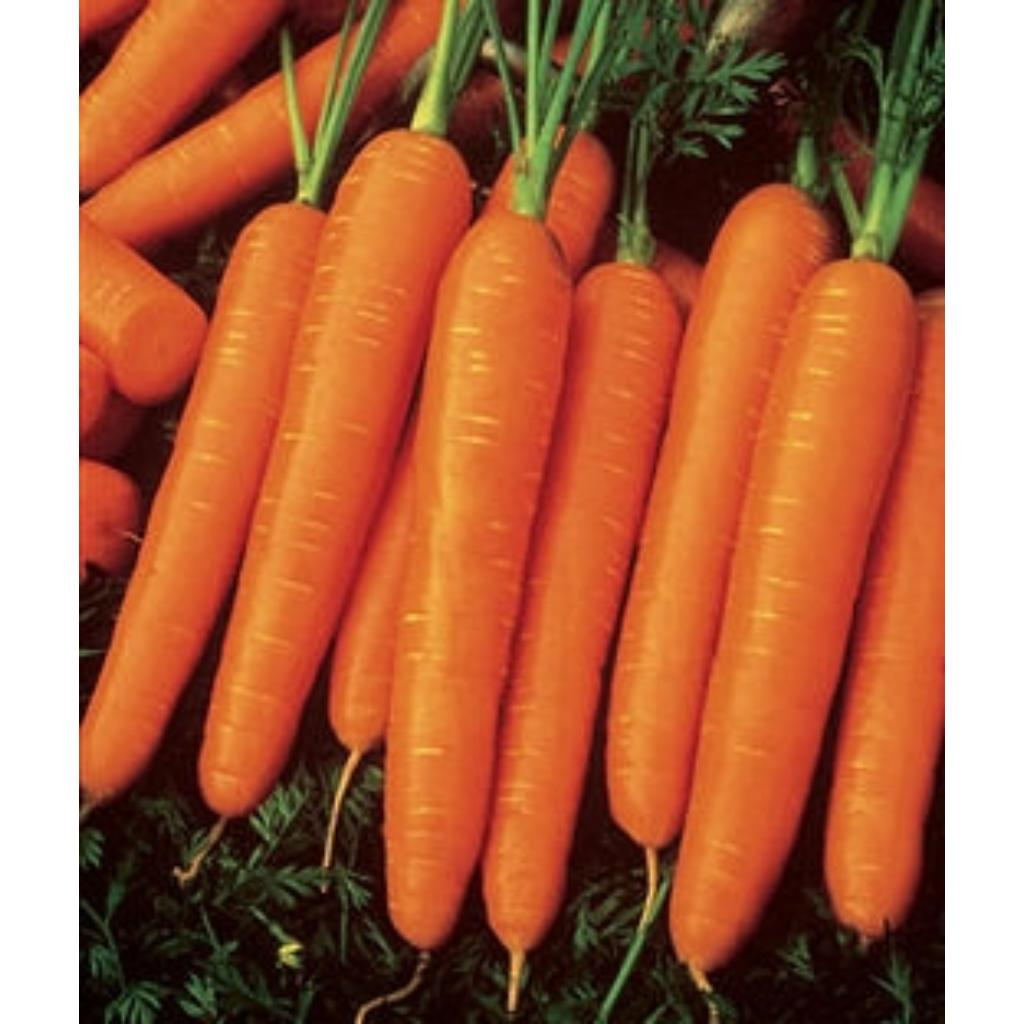carrot: (199, 136, 471, 815), (669, 262, 917, 971), (609, 184, 831, 847), (483, 262, 681, 1005), (81, 204, 325, 801), (385, 210, 571, 949), (827, 292, 945, 935), (79, 0, 287, 191), (83, 74, 291, 247), (349, 0, 440, 127), (297, 36, 336, 133)
